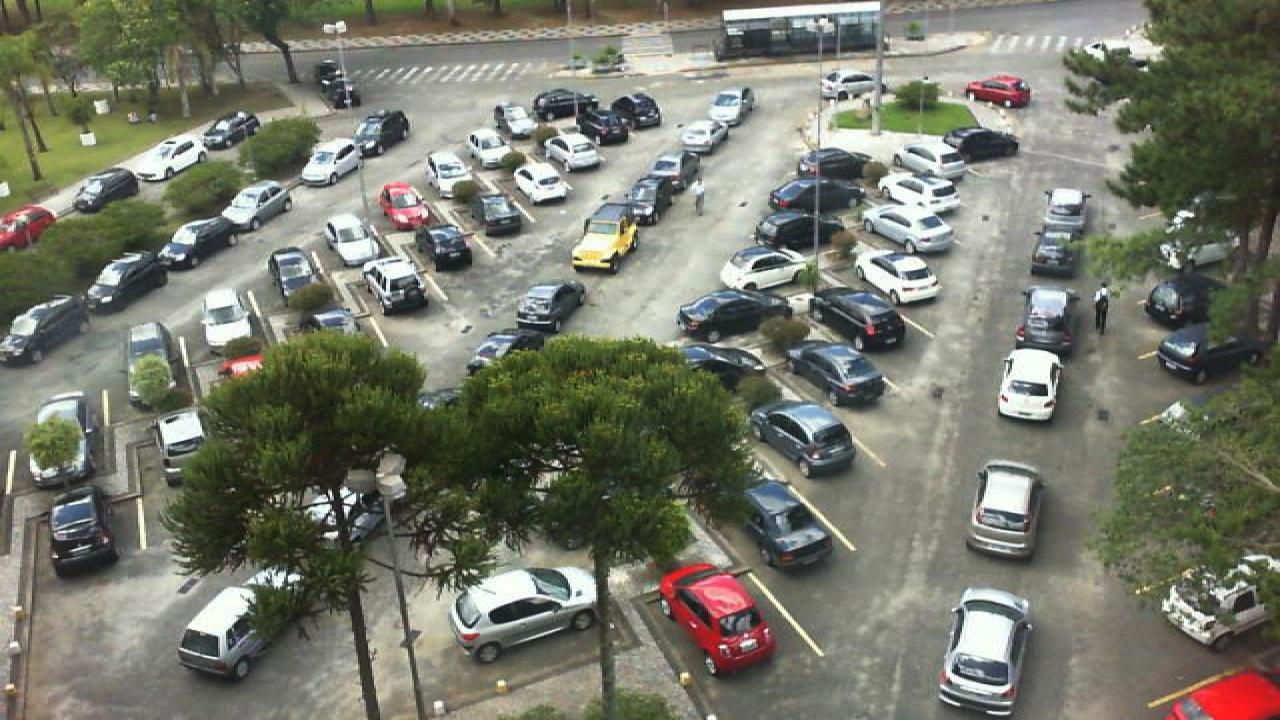Car: (452, 564, 602, 662), (658, 564, 776, 679), (938, 585, 1034, 717), (174, 582, 280, 682), (1158, 570, 1274, 652), (748, 398, 862, 481), (742, 481, 836, 572), (970, 460, 1044, 564), (1154, 319, 1266, 386), (784, 339, 888, 410), (26, 390, 96, 488), (808, 286, 910, 352), (48, 485, 120, 576), (676, 287, 788, 345), (1152, 670, 1280, 720), (116, 322, 182, 415), (0, 296, 86, 364), (996, 344, 1066, 424), (84, 250, 170, 315), (680, 343, 780, 398), (860, 202, 958, 255), (570, 200, 638, 274), (858, 246, 942, 305), (1142, 270, 1220, 331), (516, 280, 588, 344), (718, 244, 812, 293), (754, 208, 854, 254), (158, 215, 238, 271), (198, 284, 256, 361), (1012, 286, 1078, 353), (154, 407, 212, 483), (362, 253, 430, 313), (770, 172, 858, 218), (264, 246, 326, 310), (872, 172, 962, 215), (222, 180, 294, 233), (130, 138, 208, 182), (464, 325, 532, 375), (1030, 217, 1086, 277), (68, 168, 140, 214), (298, 137, 364, 186), (890, 141, 970, 181), (620, 174, 678, 228), (796, 144, 876, 183), (464, 191, 526, 241), (352, 108, 412, 159), (940, 125, 1022, 162), (324, 212, 378, 268), (422, 218, 478, 272), (508, 161, 572, 206), (640, 144, 700, 190), (378, 180, 432, 231), (542, 130, 604, 174), (196, 110, 260, 151), (0, 206, 56, 252), (672, 117, 730, 161), (1040, 185, 1090, 236), (426, 147, 478, 196), (312, 61, 364, 109), (966, 73, 1032, 107), (700, 87, 756, 127), (576, 106, 630, 146), (462, 126, 512, 169), (610, 91, 662, 129), (300, 304, 360, 335), (820, 69, 878, 100), (494, 103, 538, 140), (534, 87, 582, 119), (212, 354, 266, 382)
